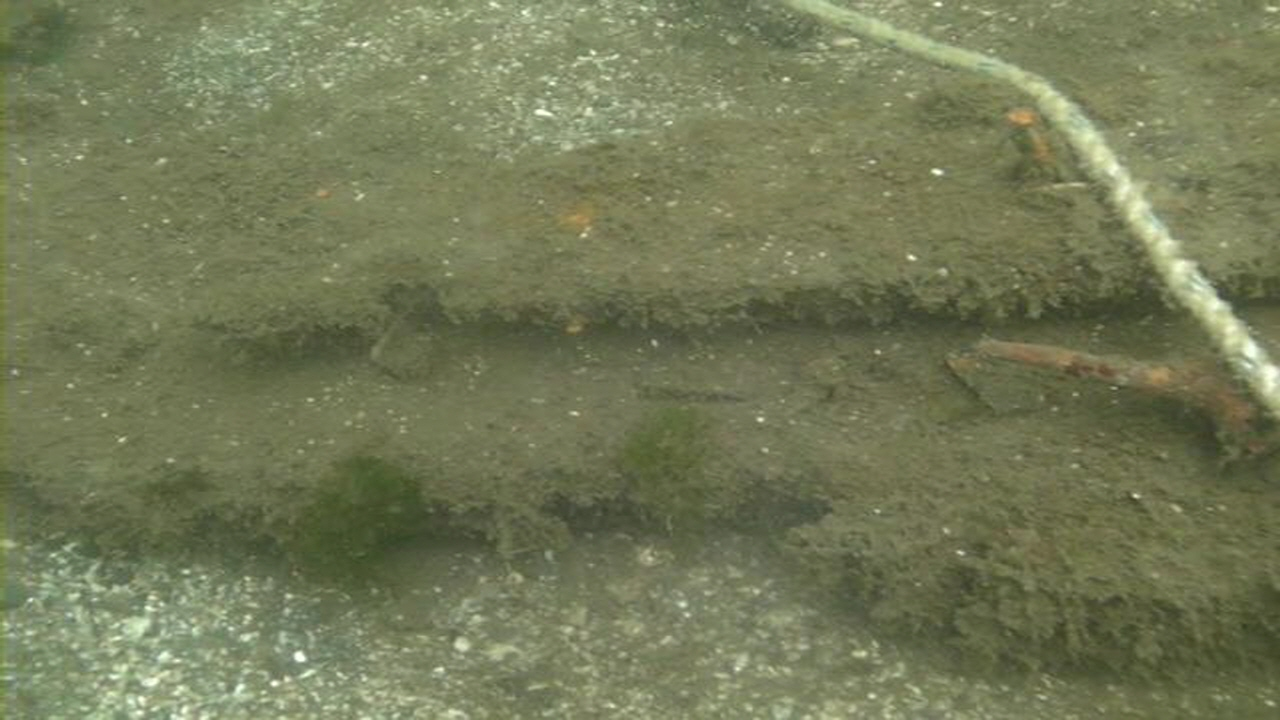rope: (781, 0, 1280, 419)
